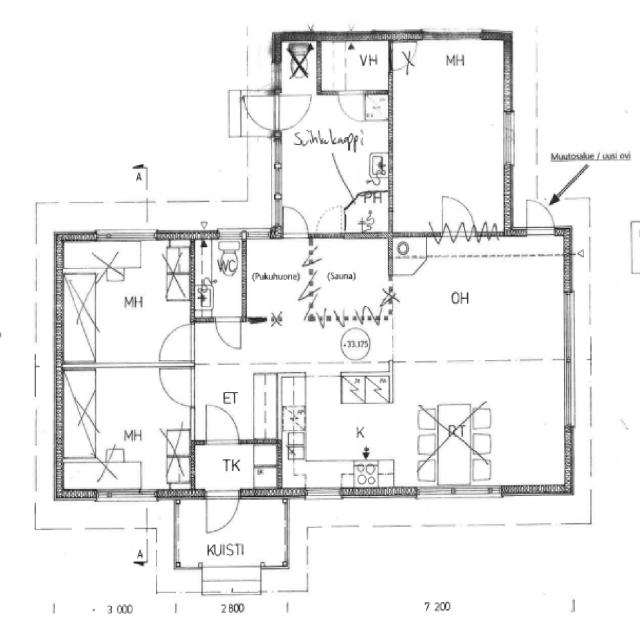door: (438, 191, 478, 240), (155, 319, 197, 364), (156, 363, 197, 409), (240, 88, 280, 134), (202, 401, 242, 446), (203, 488, 240, 536), (275, 88, 314, 132), (523, 196, 557, 237), (212, 314, 245, 353), (280, 202, 311, 241), (314, 202, 345, 237), (336, 89, 366, 123), (389, 40, 417, 75)
window: (558, 357, 580, 433), (558, 287, 578, 358), (96, 484, 162, 505), (500, 106, 519, 171), (96, 226, 158, 244), (420, 27, 482, 45), (448, 482, 504, 501), (269, 139, 285, 204), (91, 358, 160, 373), (304, 484, 346, 502), (244, 226, 274, 242)
zone: (283, 362, 566, 491), (389, 36, 514, 228), (393, 237, 572, 362), (243, 235, 394, 362), (66, 239, 194, 365), (64, 365, 190, 492), (278, 95, 390, 206), (192, 236, 244, 318), (194, 443, 280, 491), (319, 37, 392, 93)
